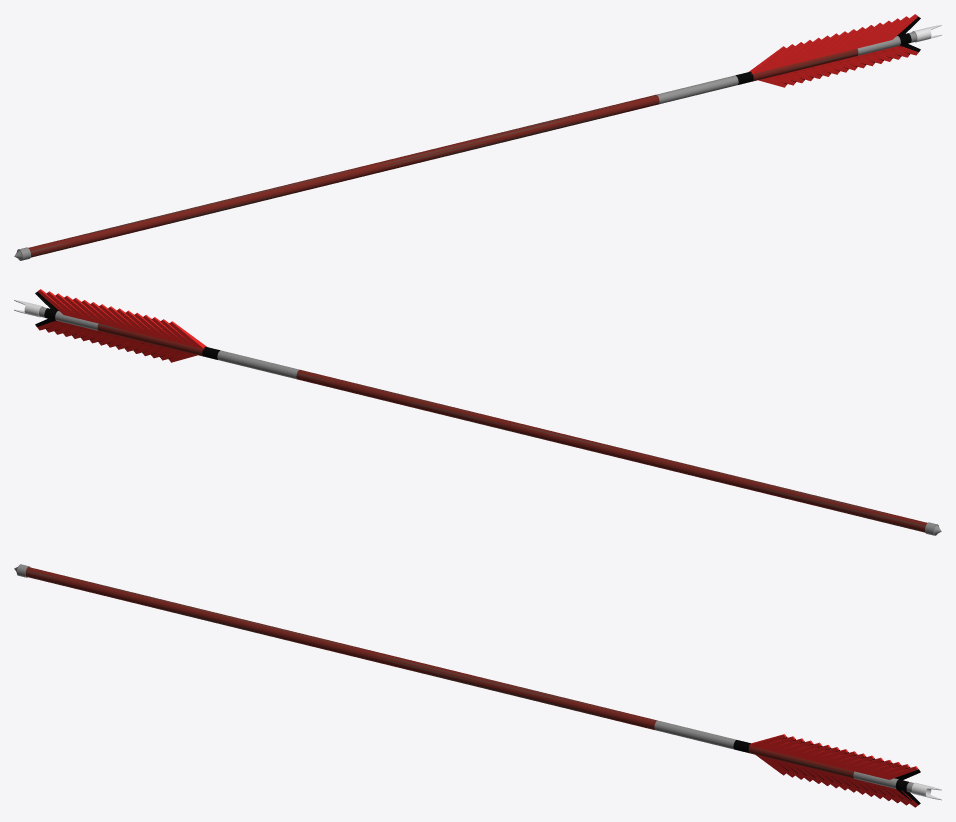
Rendered from Flecha.fbx.
3 renders of one model, top to bottom at view 1: azimuth 30°, elevation 25°; view 2: azimuth 150°, elevation 25°; view 3: azimuth 330°, elevation 25°, orthographic.
Parts seen in each view (by area): view 1: Pena; view 2: Pena; view 3: Pena.
Part boxes in pixels (box(x1,y1,x2,y2)): Pena: box(14, 14, 941, 260); Pena: box(14, 289, 941, 535); Pena: box(14, 564, 941, 807).
Size of the model in its own units: 2459 by 103 by 27.17.
Materials: 5 (1 with a texture image).
